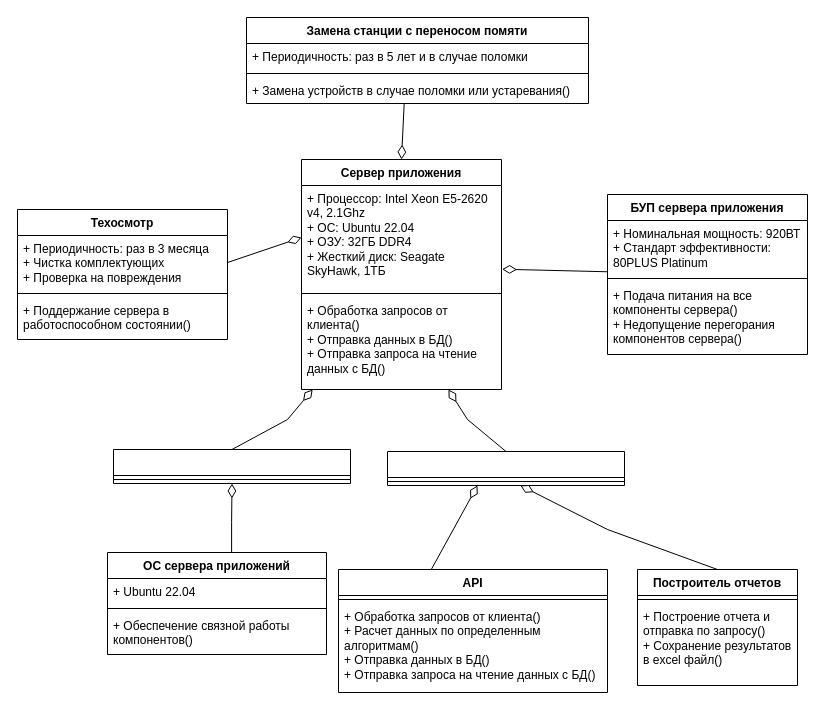
This 825x713 diagram has some shape labels left out. Each missing label, with the centre of its shape:
"Прикладное ПО сервера приложения" goes at (x=505, y=468).
"Системное ПО сервера приложения" goes at (x=231, y=466).
